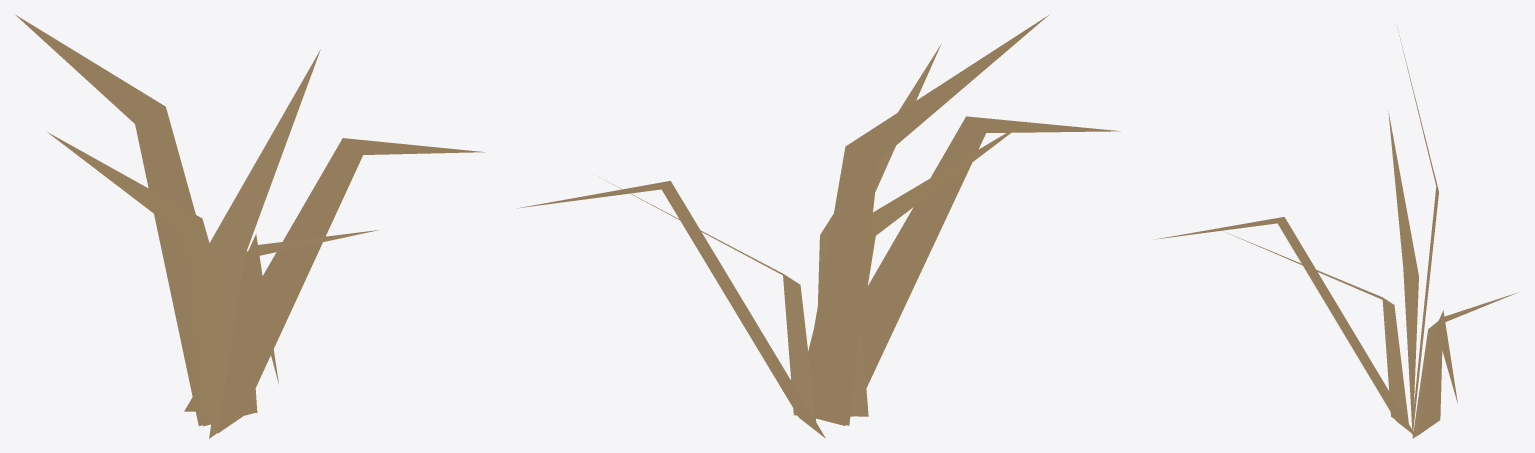
The model's file is Grass_g_OneS_02.fbx.
The picture shows the model from 3 angles, left to right: view 1: azimuth 30°, elevation 25°; view 2: azimuth 150°, elevation 25°; view 3: azimuth 270°, elevation 25°; orthographic projection. The views are drawn at different scales.
Visible parts, largest first — view 1: Grass_g_OneS_02; view 2: Grass_g_OneS_02; view 3: Grass_g_OneS_02.
Part boxes in pixels (x1,y1,x2,y2): Grass_g_OneS_02: (14, 14, 484, 438); Grass_g_OneS_02: (518, 15, 1120, 438); Grass_g_OneS_02: (1154, 27, 1518, 438).
Size of the model in its own units: 0.5711 by 0.4981 by 0.4964.
